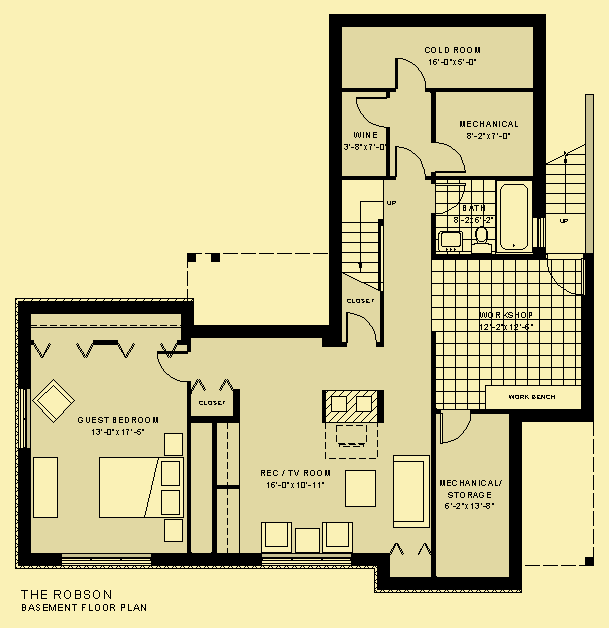bed: (95, 453, 185, 522)
door: (438, 408, 473, 448), (391, 55, 428, 92), (153, 350, 192, 385), (430, 139, 467, 175), (345, 312, 380, 348), (356, 95, 391, 129), (394, 145, 427, 180)
large_sink: (467, 222, 493, 254)
large_sofa: (390, 452, 430, 529)
sink: (438, 230, 465, 255)
small_sofa: (31, 378, 77, 424), (319, 518, 354, 552), (258, 519, 292, 552)
stairs: (338, 177, 390, 297), (545, 143, 586, 259)
tub: (496, 179, 534, 252)
window: (59, 553, 150, 567), (13, 389, 28, 447)
